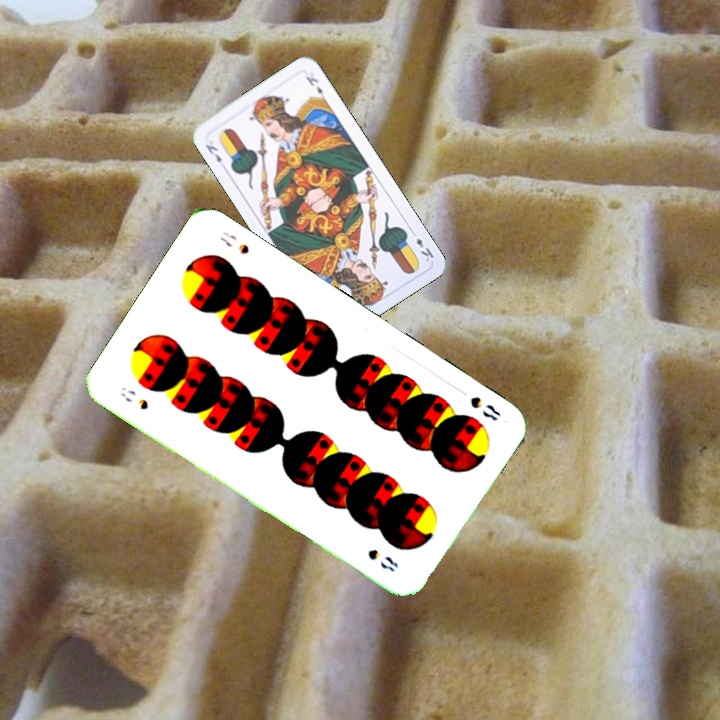EK: (407, 226, 436, 264), (201, 140, 224, 165)
S8: (466, 392, 503, 424), (116, 382, 151, 413)
